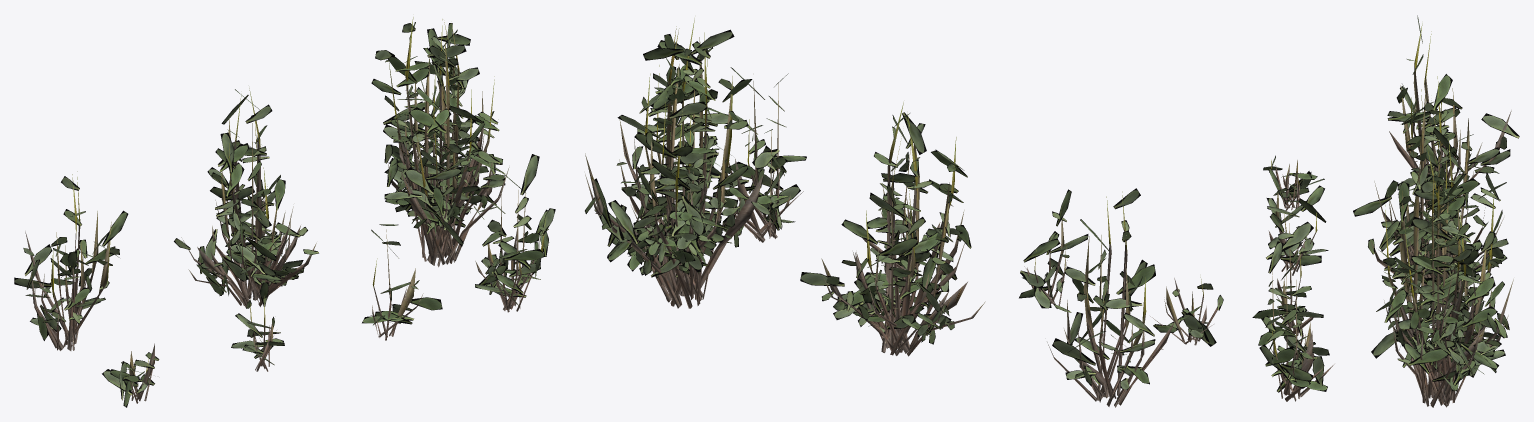
File: othonna_cerarioides.glb
3 renders of one model, left to right at view 1: azimuth 30°, elevation 25°; view 2: azimuth 150°, elevation 25°; view 3: azimuth 270°, elevation 25°, orthographic. The views are drawn at different scales.
Visible parts, largest first — view 1: othonna_cerarioides_a, othonna_cerarioides_b, othonna_cerarioides_a.001, othonna_cerarioides_b.001, othonna_cerarioides_c, othonna_cerarioides_d, othonna_cerarioides_c.001, othonna_cerarioides_d.001, othonna_cerarioides_e, othonna_cerarioides_g, othonna_cerarioides_f, othonna_cerarioides_e.001 (+1 smaller); view 2: othonna_cerarioides_a, othonna_cerarioides_b, othonna_cerarioides_a.001, othonna_cerarioides_b.001, othonna_cerarioides_c, othonna_cerarioides_c.001, othonna_cerarioides_d, othonna_cerarioides_f, othonna_cerarioides_d.001, othonna_cerarioides_g, othonna_cerarioides_g.001; view 3: othonna_cerarioides_a, othonna_cerarioides_a.001, othonna_cerarioides_b, othonna_cerarioides_d, othonna_cerarioides_c, othonna_cerarioides_b.001, othonna_cerarioides_c.001, othonna_cerarioides_f, othonna_cerarioides_e, othonna_cerarioides_d.001, othonna_cerarioides_g, othonna_cerarioides_e.001 (+2 smaller).
Boxes of the visible parts, bbox=[...] form: othonna_cerarioides_a: bbox=[371, 22, 505, 246]; othonna_cerarioides_b: bbox=[174, 89, 318, 295]; othonna_cerarioides_a.001: bbox=[387, 17, 509, 267]; othonna_cerarioides_b.001: bbox=[181, 88, 316, 308]; othonna_cerarioides_c: bbox=[14, 176, 128, 340]; othonna_cerarioides_d: bbox=[475, 154, 555, 306]; othonna_cerarioides_c.001: bbox=[25, 171, 111, 350]; othonna_cerarioides_d.001: bbox=[475, 174, 546, 312]; othonna_cerarioides_e: bbox=[362, 224, 442, 325]; othonna_cerarioides_g: bbox=[102, 352, 159, 407]; othonna_cerarioides_f: bbox=[231, 282, 284, 365]; othonna_cerarioides_e.001: bbox=[372, 229, 423, 340]; othonna_cerarioides_a: bbox=[585, 29, 771, 278]; othonna_cerarioides_b: bbox=[800, 112, 971, 344]; othonna_cerarioides_a.001: bbox=[585, 18, 763, 308]; othonna_cerarioides_b.001: bbox=[821, 102, 985, 356]; othonna_cerarioides_c: bbox=[1052, 188, 1155, 390]; othonna_cerarioides_c.001: bbox=[1047, 191, 1174, 407]; othonna_cerarioides_d: bbox=[712, 67, 806, 235]; othonna_cerarioides_f: bbox=[1019, 189, 1088, 308]; othonna_cerarioides_d.001: bbox=[727, 81, 803, 242]; othonna_cerarioides_g: bbox=[1153, 283, 1223, 346]; othonna_cerarioides_g.001: bbox=[1150, 277, 1220, 345]; othonna_cerarioides_a: bbox=[1371, 127, 1509, 391]; othonna_cerarioides_a.001: bbox=[1384, 135, 1513, 407]; othonna_cerarioides_b: bbox=[1353, 74, 1507, 293]; othonna_cerarioides_d: bbox=[1258, 241, 1329, 392]; othonna_cerarioides_c: bbox=[1387, 15, 1519, 188]; othonna_cerarioides_b.001: bbox=[1370, 76, 1503, 309]; othonna_cerarioides_c.001: bbox=[1389, 23, 1511, 210]; othonna_cerarioides_f: bbox=[1266, 168, 1328, 265]; othonna_cerarioides_e: bbox=[1252, 206, 1313, 336]; othonna_cerarioides_d.001: bbox=[1270, 268, 1334, 401]; othonna_cerarioides_g: bbox=[1263, 155, 1324, 211]; othonna_cerarioides_e.001: bbox=[1276, 215, 1313, 335].
Size of the model in its own units: 3.89 by 1.93 by 1.81.
Materials: 2 (2 with a texture image).
